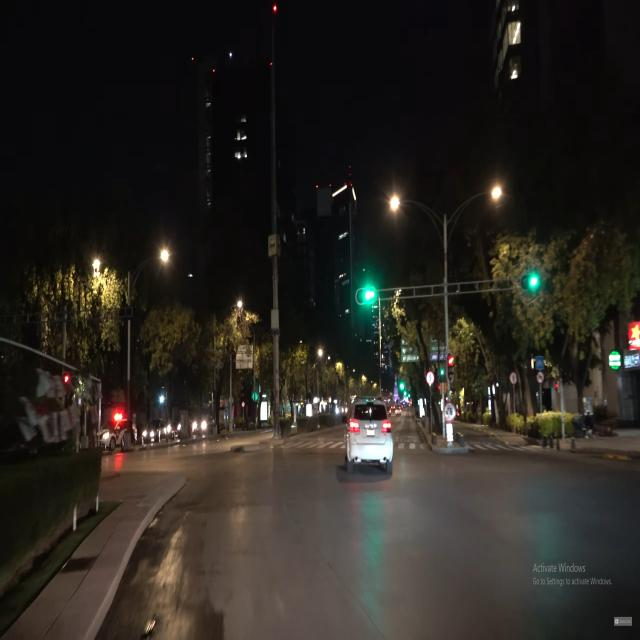headlights: (189, 418, 208, 439), (140, 426, 158, 446), (165, 421, 183, 441)
